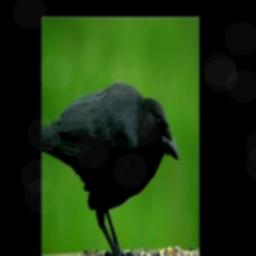Crow: (41, 83, 180, 256)
